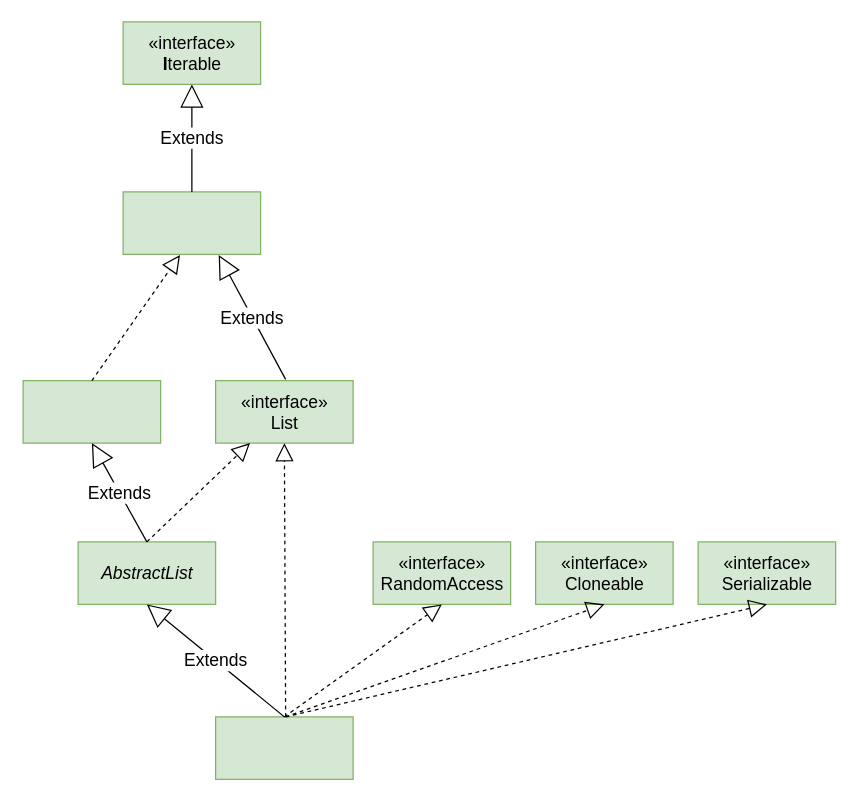
This 858x801 diagram has some shape labels left out. The shapes that lost their labels are listed below. From the top down, each one's centre as x and y in pixels, then its label:
the point at 191,222: «interface» Collection
the point at 91,411: AbstractCollection
the point at 283,747: ArrayList
